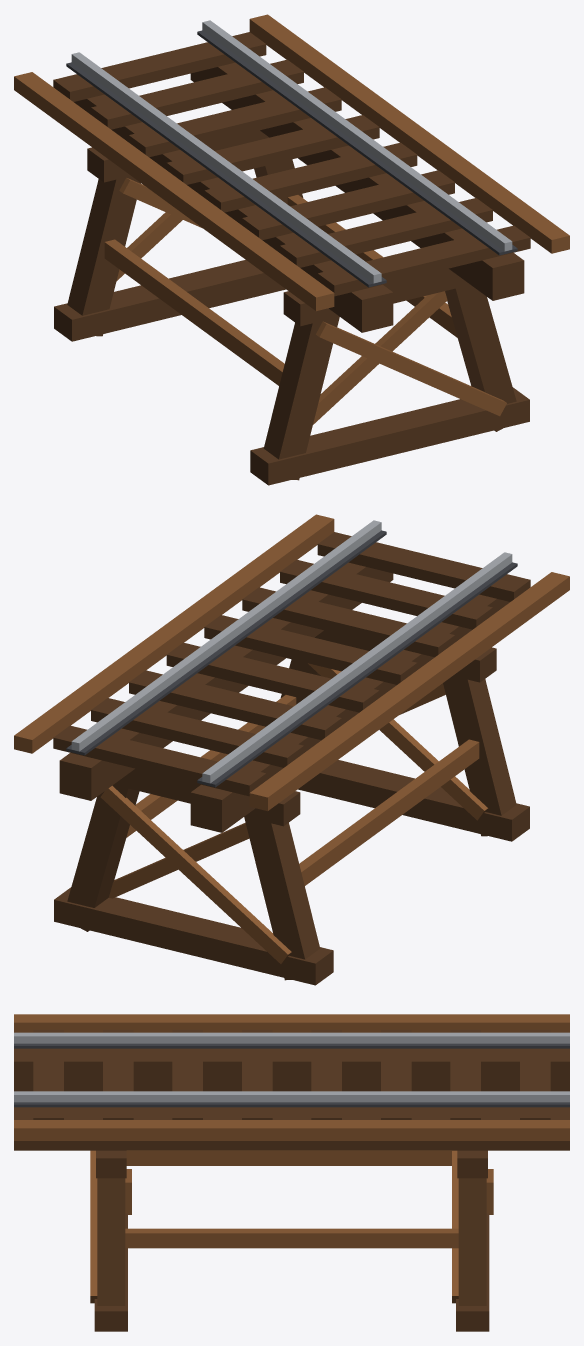
Rendered from mine_rail_bridge.glb.
The picture shows the model from 3 angles, top to bottom: view 1: azimuth 30°, elevation 25°; view 2: azimuth 150°, elevation 25°; view 3: azimuth 270°, elevation 25°; orthographic projection. The views are drawn at different scales.
Visible parts, largest first — view 1: mine_rail_bridge; view 2: mine_rail_bridge; view 3: mine_rail_bridge.
Boxes of the visible parts, box(x1,y1,x2,y2) form: mine_rail_bridge: box(14, 14, 569, 485); mine_rail_bridge: box(14, 514, 569, 985); mine_rail_bridge: box(14, 1014, 569, 1331).
Size of what is drawn, in the model's own units: 2 by 1.69 by 4.
